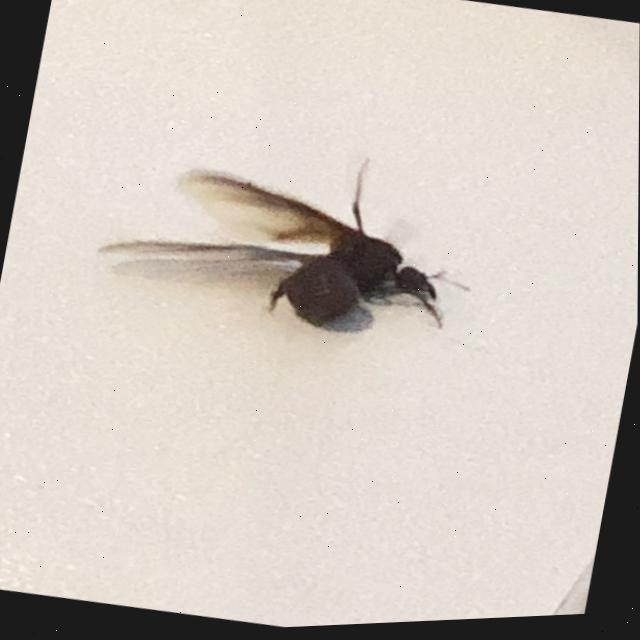Dead-Female-Alate: (86, 111, 494, 367)
